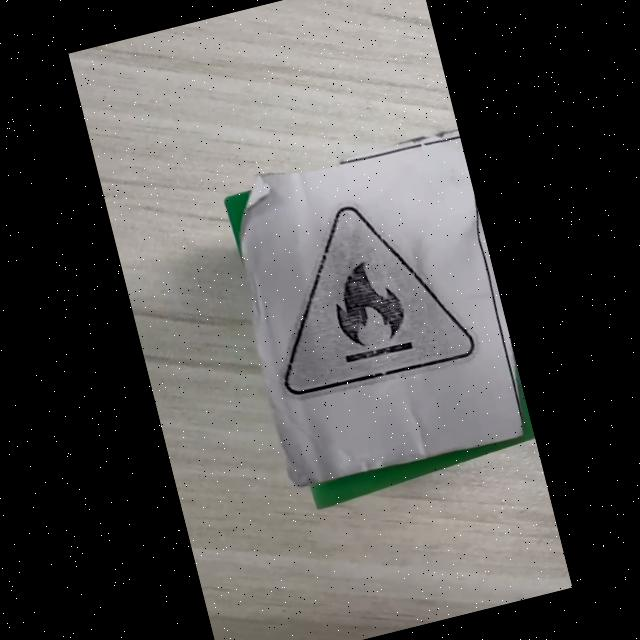Fire: (285, 205, 475, 397)
